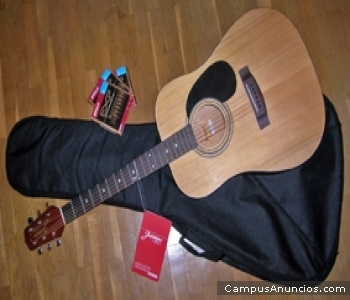guitar: (23, 6, 326, 255)
